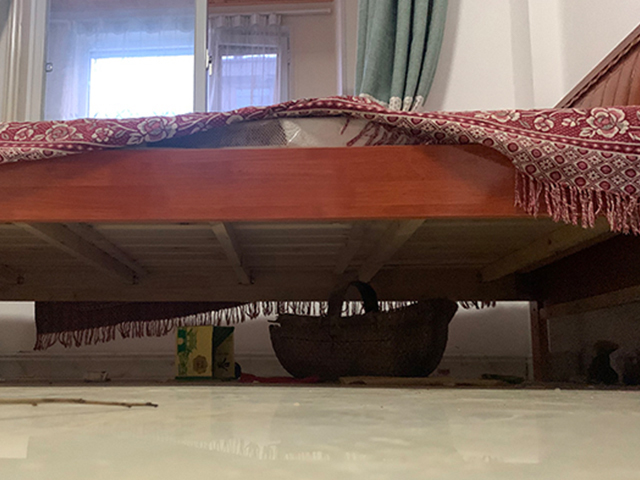bed: (1, 22, 640, 386)
